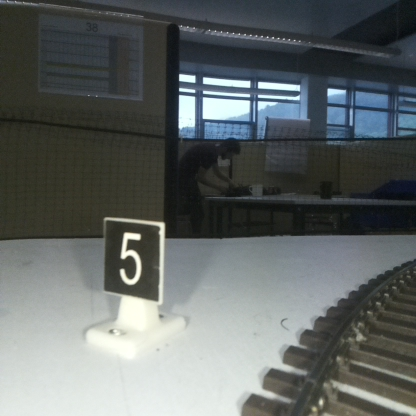black-stop-5: (104, 225, 160, 348)
